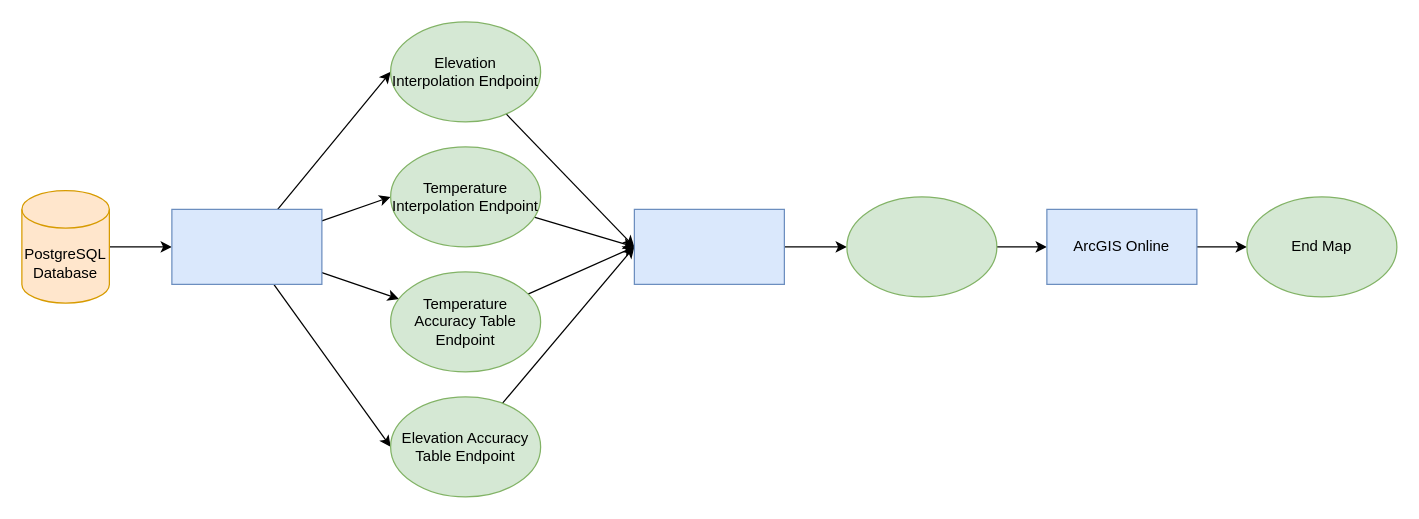
This 1419x519 diagram has some shape labels left out. The shapes that lost their labels are listed below. From the top down, each one's centre as x and y in pixels, then its label:
the point at 246,246: Flask App via Google Cloud Run
the point at 708,246: Query postgreSQL database
the point at 921,246: geojson
